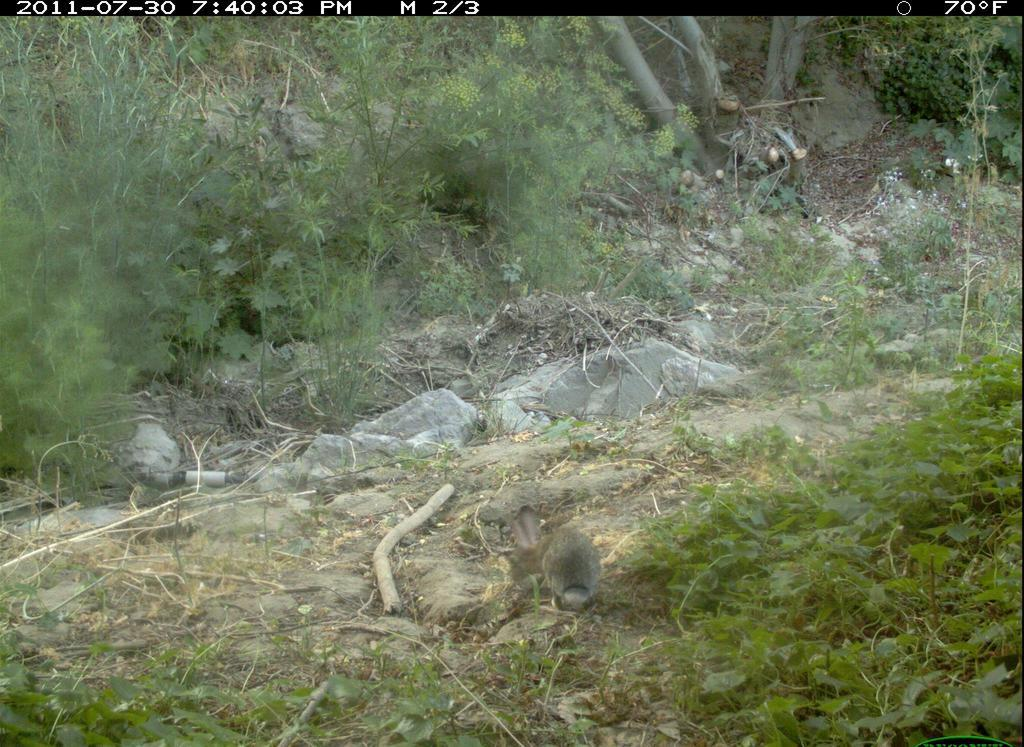rabbit: (487, 491, 615, 623)
